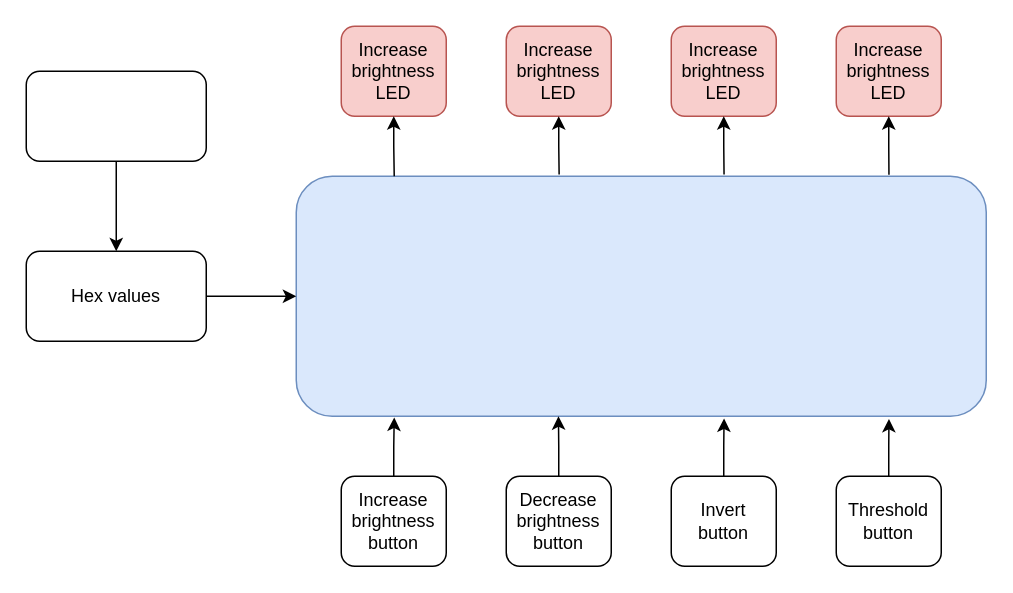
This 1013x593 diagram has some shape labels left out. Here are the shapes that lost their labels. From the top down, the centre of each, then its label:
At [115,115]: "BMP file".
At [640,295]: "DE2-70".
